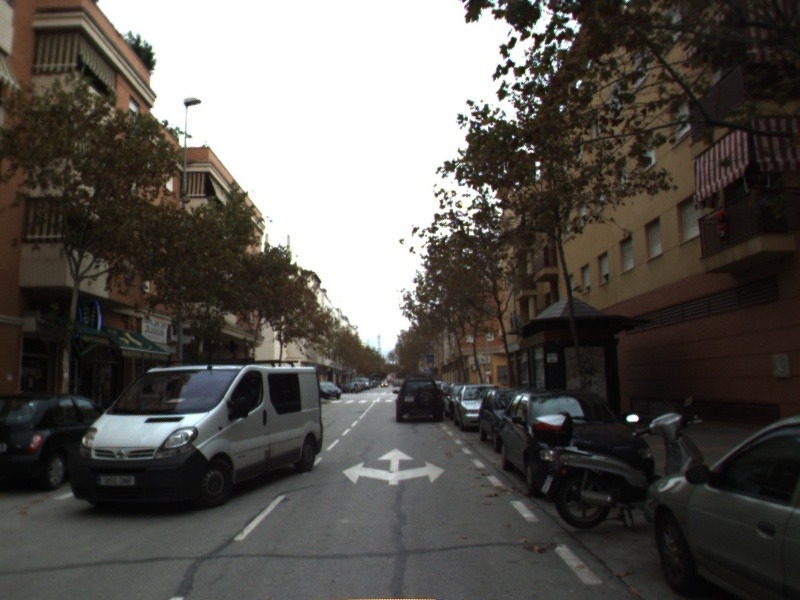STRAIGHT_LEFT_RIGHT: (340, 445, 448, 487)
